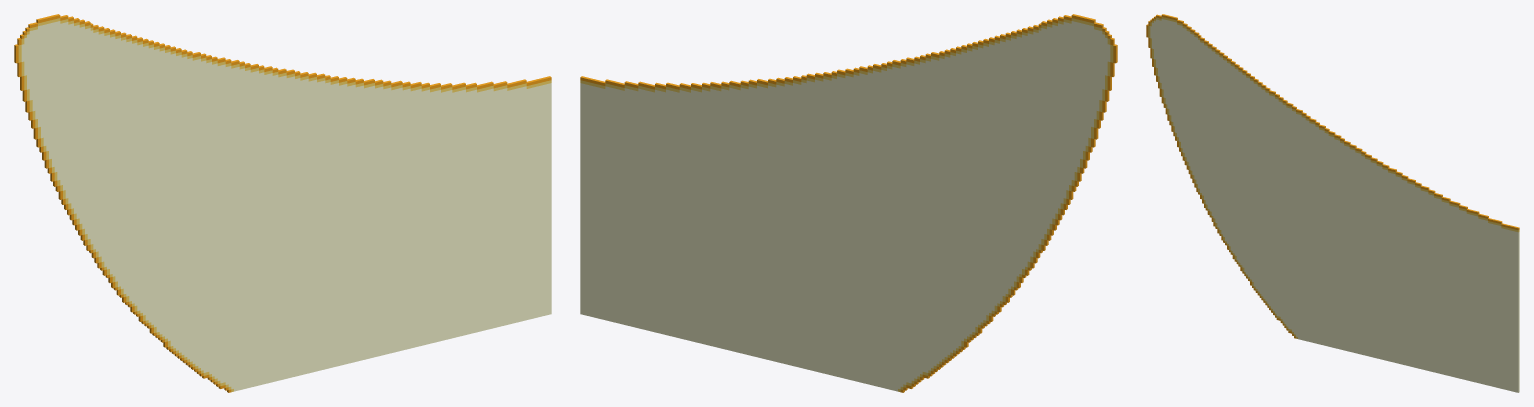
The model's file is Fight_004_2_07_fx.obj.
3 views of the same model, side by side, from view 1: azimuth 30°, elevation 25°; view 2: azimuth 150°, elevation 25°; view 3: azimuth 330°, elevation 25° (orthographic). The views are drawn at different scales.
Size of the model in its own units: 19.4 by 14.5 by 0.1.
1 material, 1 textured.
